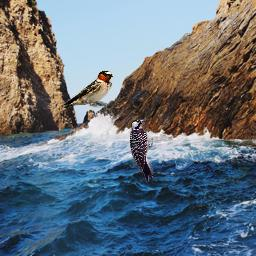Swallow: (62, 70, 113, 108)
Woodpecker: (130, 118, 153, 183)
